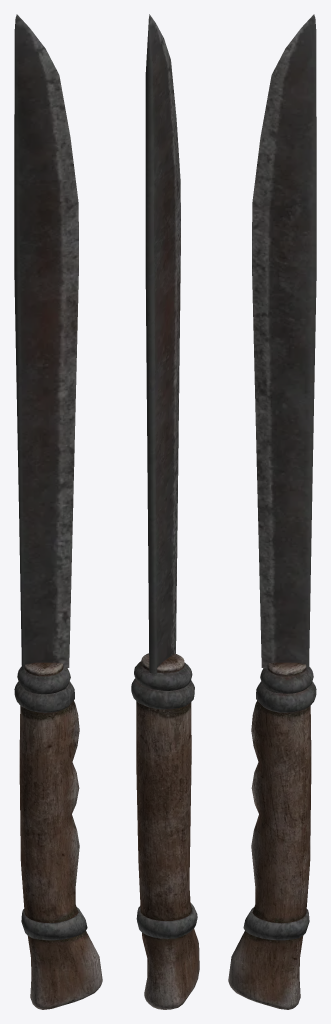
The model's file is machete.glb.
3 renders of one model, left to right at view 1: azimuth 90°, elevation 25°; view 2: azimuth 150°, elevation 25°; view 3: azimuth 270°, elevation 25°, orthographic.
Visible parts, largest first — view 1: machete; view 2: machete; view 3: machete.
Part boxes in pixels (box(x1,y1,x2,y2)): machete: box(14, 14, 102, 1009); machete: box(131, 14, 199, 1009); machete: box(228, 14, 316, 1009).
Bounding box in the file's own units: 0.0444 × 0.7548 × 0.0611.
Materials: 1 (1 with a texture image).
